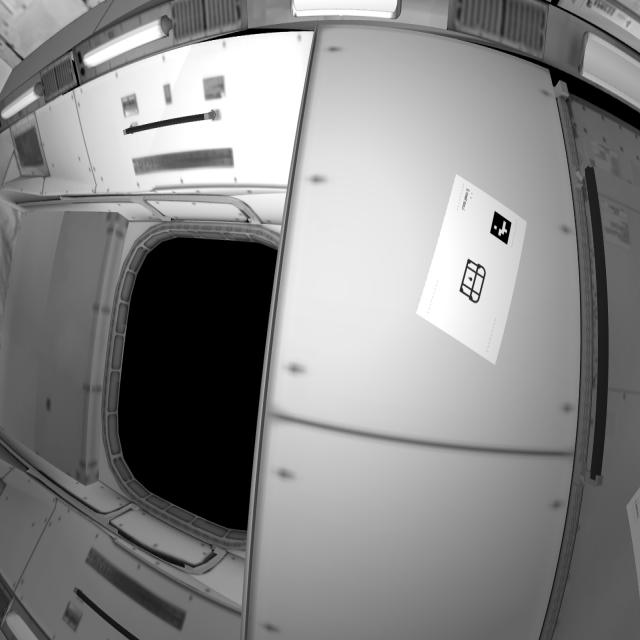treasure_box: (456, 254, 489, 308)
